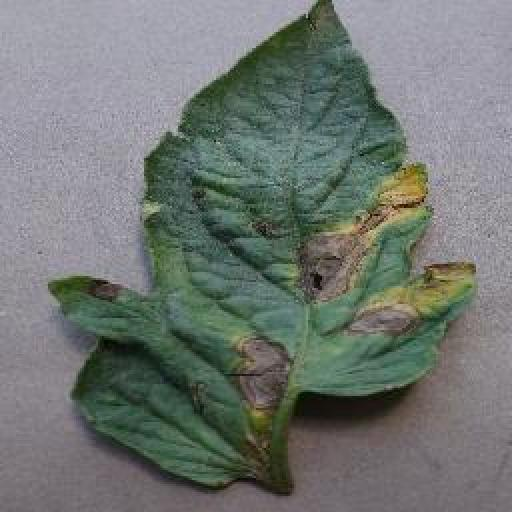disease_tomato: (48, 0, 478, 498)
